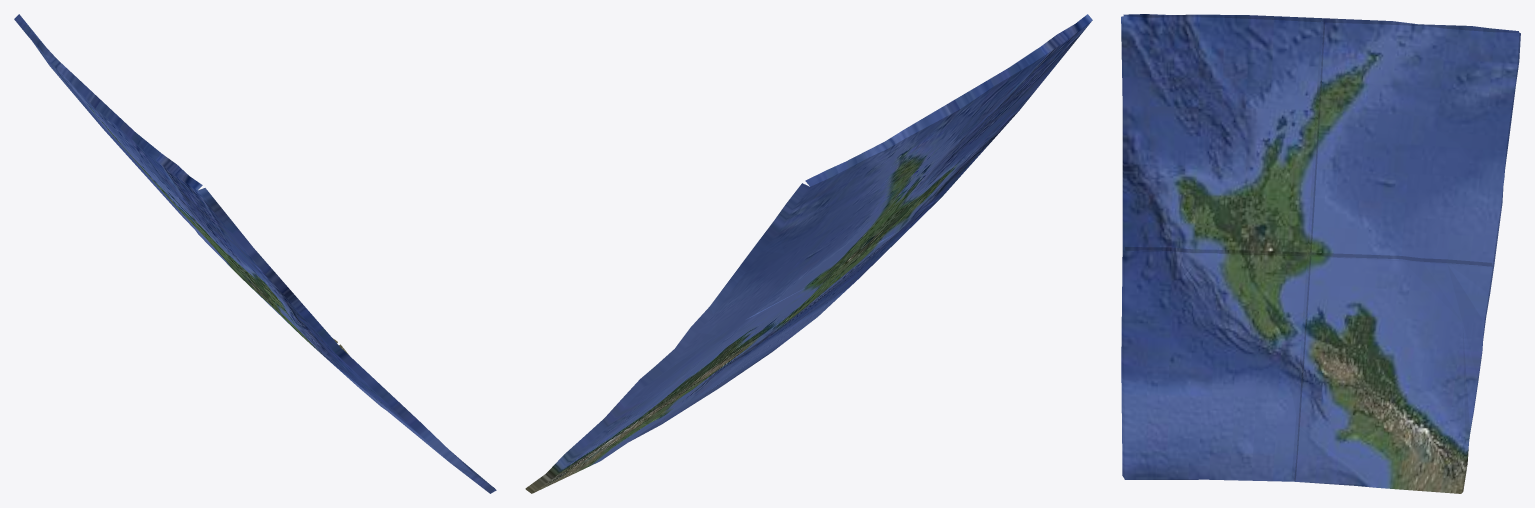
The picture shows the model from 3 angles, left to right: view 1: azimuth 30°, elevation 25°; view 2: azimuth 150°, elevation 25°; view 3: azimuth 270°, elevation 25°; orthographic projection. The views are drawn at different scales.
Size of the model in its own units: 898421 by 986635 by 1049645.
Materials: 1 (1 with a texture image).
